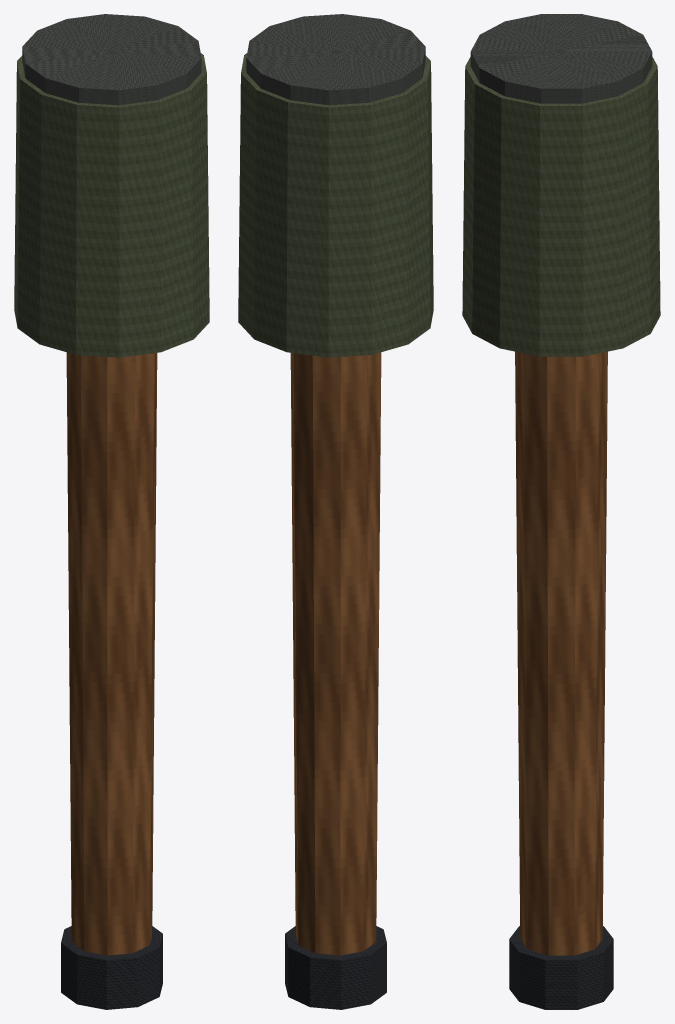
File: m24_stielhandgranate.glb
3 renders of one model, left to right at view 1: azimuth 30°, elevation 25°; view 2: azimuth 150°, elevation 25°; view 3: azimuth 270°, elevation 25°, orthographic.
Visible parts, largest first — view 1: WeaponMesh; view 2: WeaponMesh; view 3: WeaponMesh.
Part boxes in pixels (<box>): WeaponMesh: <box>14,14,209,1009</box>; WeaponMesh: <box>238,14,433,1009</box>; WeaponMesh: <box>462,14,660,1009</box>.
Size of the model in its own units: 0.0702 by 0.376 by 0.072.
Materials: 4 (4 with a texture image).
